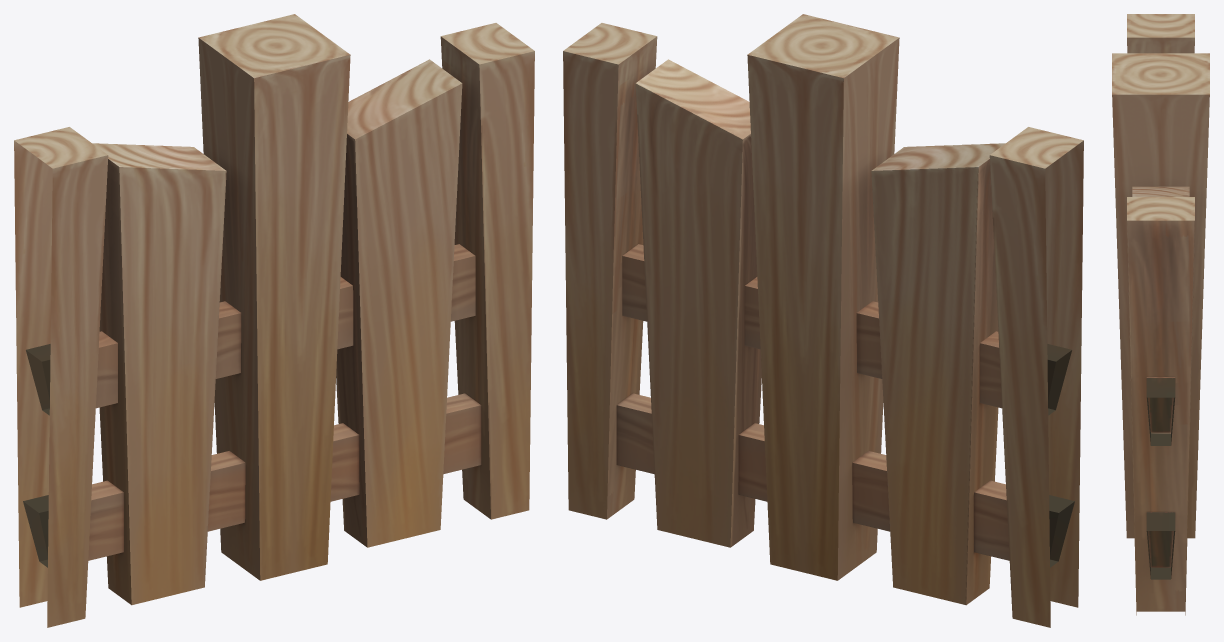
The model's file is fence2_middle2.FBX.
3 renders of one model, left to right at view 1: azimuth 30°, elevation 25°; view 2: azimuth 150°, elevation 25°; view 3: azimuth 270°, elevation 25°, orthographic. The views are drawn at different scales.
Parts seen in each view (by area): view 1: fence2_middle2; view 2: fence2_middle2; view 3: fence2_middle2.
Boxes of the visible parts, x1,y1,x2,y2 form: fence2_middle2: (14,14,534,627); fence2_middle2: (563,14,1083,627); fence2_middle2: (1112,14,1209,615).
Size of the model in its own units: 50.49 by 50.83 by 10.
1 material, 1 textured.
